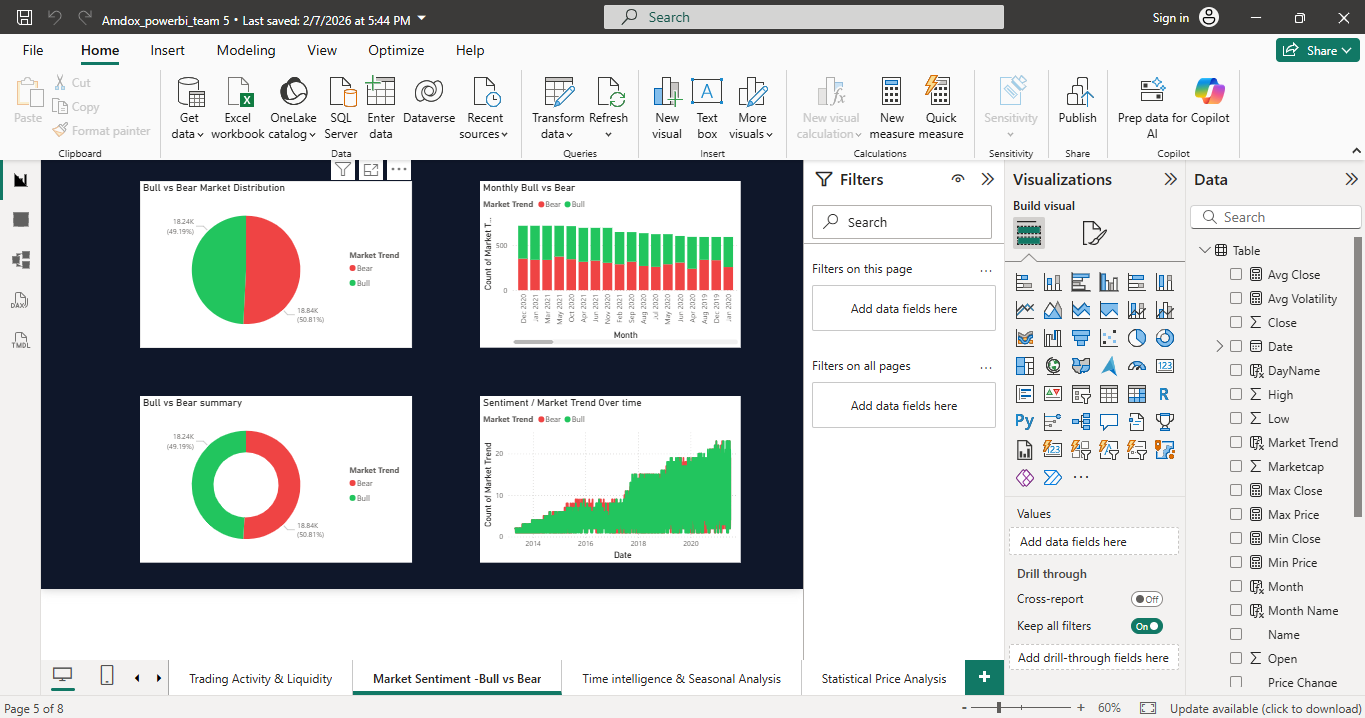

Layout of this report page (visuals, bound fields, positions):
{"tool":"powerbi","page":{"name":"Market Sentiment -Bull vs Bear","canvas":[1280,720],"ordinal":4},"visuals":[{"type":"pieChart","title":"Bull vs Bear Market Distribution","fields":{"Category":["Table.Market Trend"],"Y":["CountNonNull(Table.Market Trend)"]},"box":[166.3,35.9,457.3,279.7],"z":0},{"type":"columnChart","title":"Monthly Bull vs Bear","fields":{"Category":["Table.Month"],"Series":["Table.Market Trend"],"Y":["CountNonNull(Table.Market Trend)"]},"box":[737,35.9,438.4,279.7],"z":1},{"type":"lineChart","title":"Sentiment / Market Trend Over time","fields":{"Category":["Table.Date"],"Series":["Table.Market Trend"],"Y":["CountNonNull(Table.Market Trend)"]},"box":[737,396.9,438.4,279.7],"z":2},{"type":"donutChart","title":"Bull vs Bear summary","fields":{"Category":["Table.Market Trend"],"Y":["CountNonNull(Table.Market Trend)"]},"box":[166.3,396.9,457.3,279.7],"z":3}]}

Visuals, with their boxes on the page's 1280x720 design canvas (x1, y1, x2, y2). These are canvas units, not pixel positions in the 1365x718 screenshot, which may show the page scaled, cropped or inside an application window:
"Bull vs Bear Market Distribution" pieChart: region(166, 36, 624, 316)
"Monthly Bull vs Bear" columnChart: region(737, 36, 1175, 316)
"Sentiment / Market Trend Over time" lineChart: region(737, 397, 1175, 677)
"Bull vs Bear summary" donutChart: region(166, 397, 624, 677)
